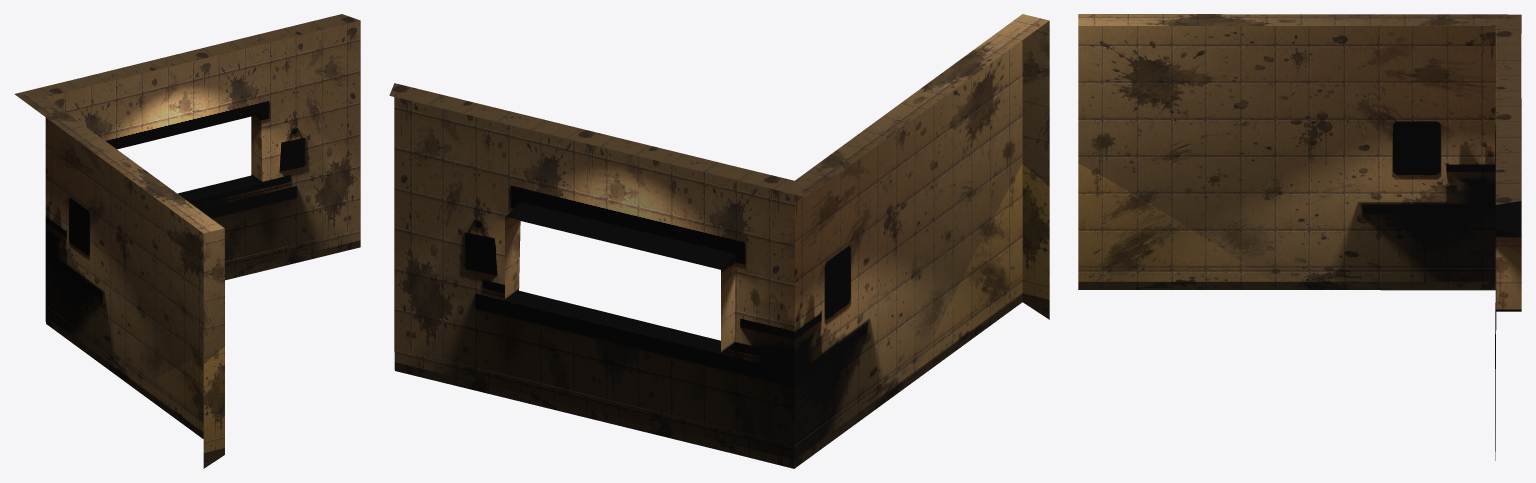
File: stena.fbx
3 views of the same model, side by side, from view 1: azimuth 30°, elevation 25°; view 2: azimuth 150°, elevation 25°; view 3: azimuth 270°, elevation 25° (orthographic). The views are drawn at different scales.
Parts seen in each view (by area): view 1: Cube.015; view 2: Cube.015; view 3: Cube.015.
Part boxes in pixels (box(x1,y1,x2,y2)): Cube.015: box(14, 14, 360, 468); Cube.015: box(389, 14, 1049, 468); Cube.015: box(1078, 14, 1521, 460).
Size of the model in its own units: 1199 by 802 by 1176.
